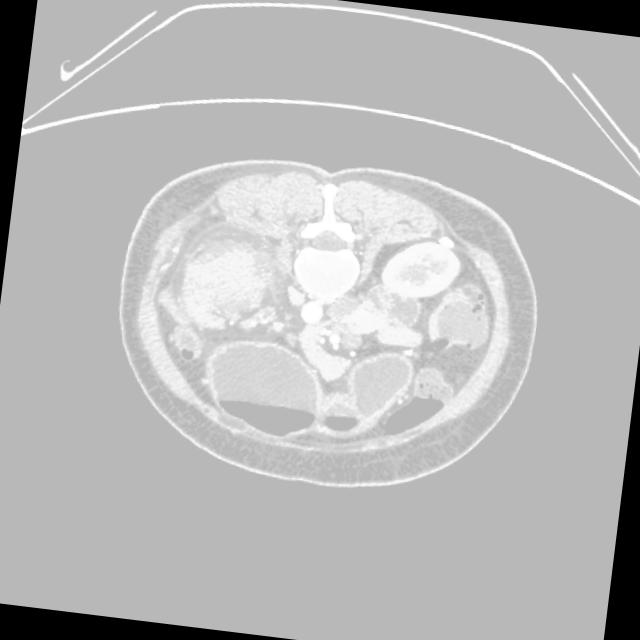TUMOR: (68, 234, 540, 426)
